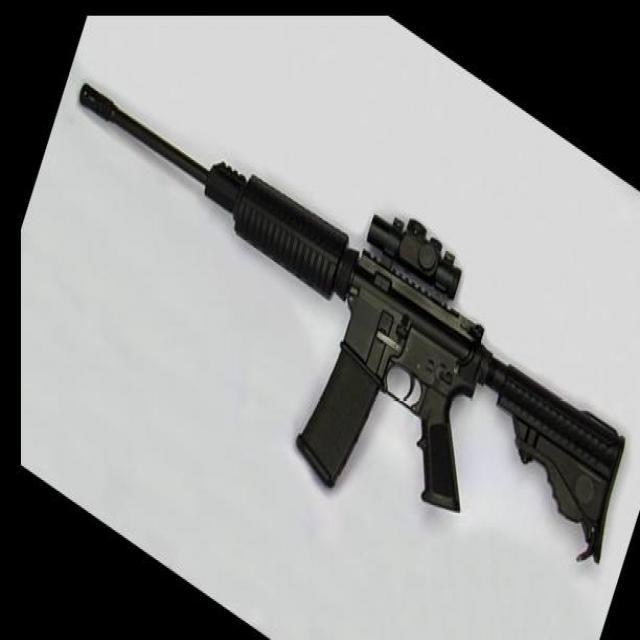weapon: (77, 82, 628, 566)
